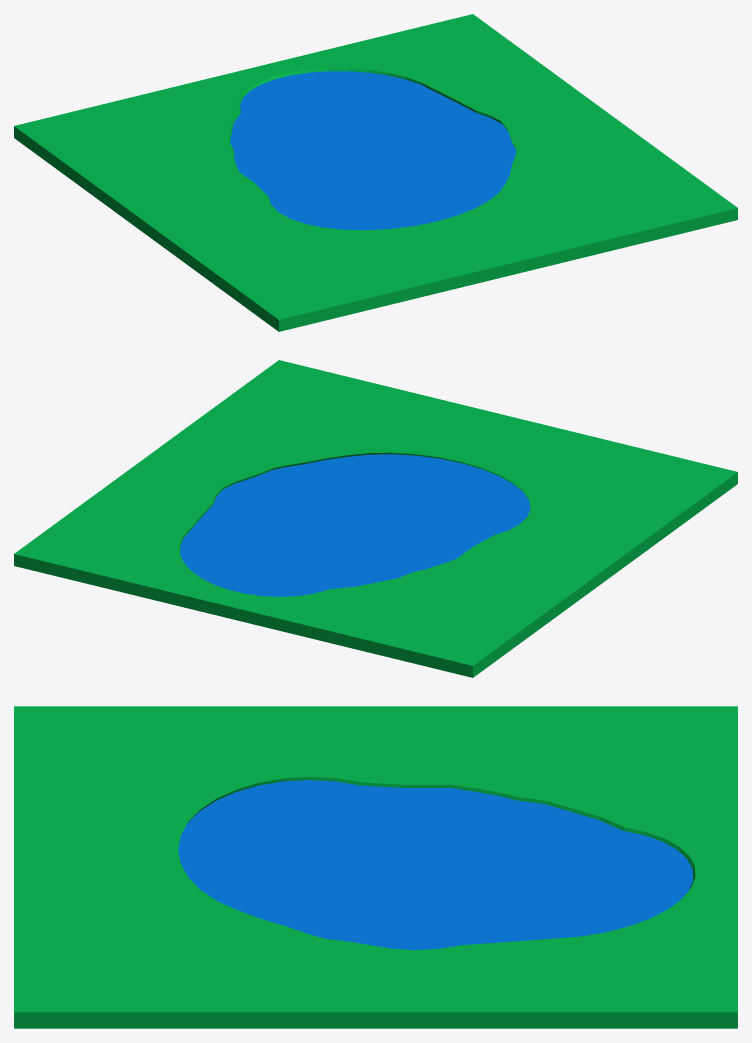
The model's file is Pond.fbx.
3 renders of one model, top to bottom at view 1: azimuth 30°, elevation 25°; view 2: azimuth 150°, elevation 25°; view 3: azimuth 270°, elevation 25°, orthographic. The views are drawn at different scales.
Visible parts, largest first — view 1: Pond; view 2: Pond; view 3: Pond.
Part boxes in pixels (box(x1,y1,x2,y2)): Pond: box(14, 14, 737, 331); Pond: box(14, 360, 737, 677); Pond: box(14, 706, 737, 1028).
Size of the model in its own units: 800 by 22.21 by 800.
